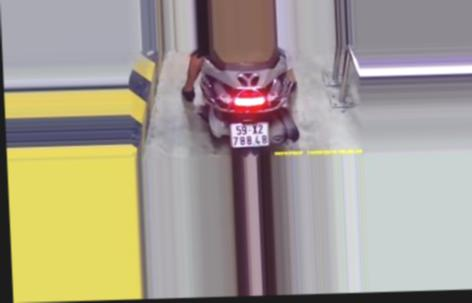License_Plate: (225, 119, 273, 150)
